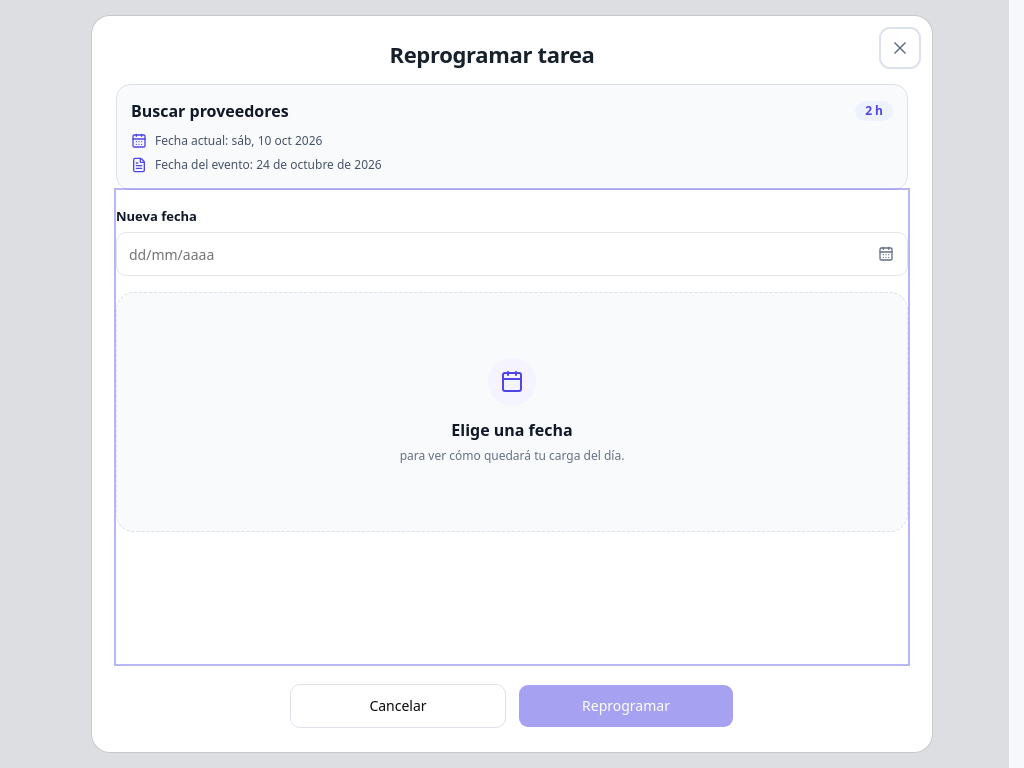
Scenario: RescheduleTaskDialog › usa hoy en Bogotá como mínimo y bloquea fechas pasadas aunque se ingresen manualmente
Check: the text "Elige una fecha" is shown, box x1=451 y1=418 x2=573 y2=442
Check: the text "Fecha del evento: 24 de octubre de 2026" is shown, box x1=155 y1=157 x2=382 y2=173
Type "2026-10-06" into the field labelled "Nueva fecha" at (512, 254), box x1=116 y1=232 x2=908 y2=276
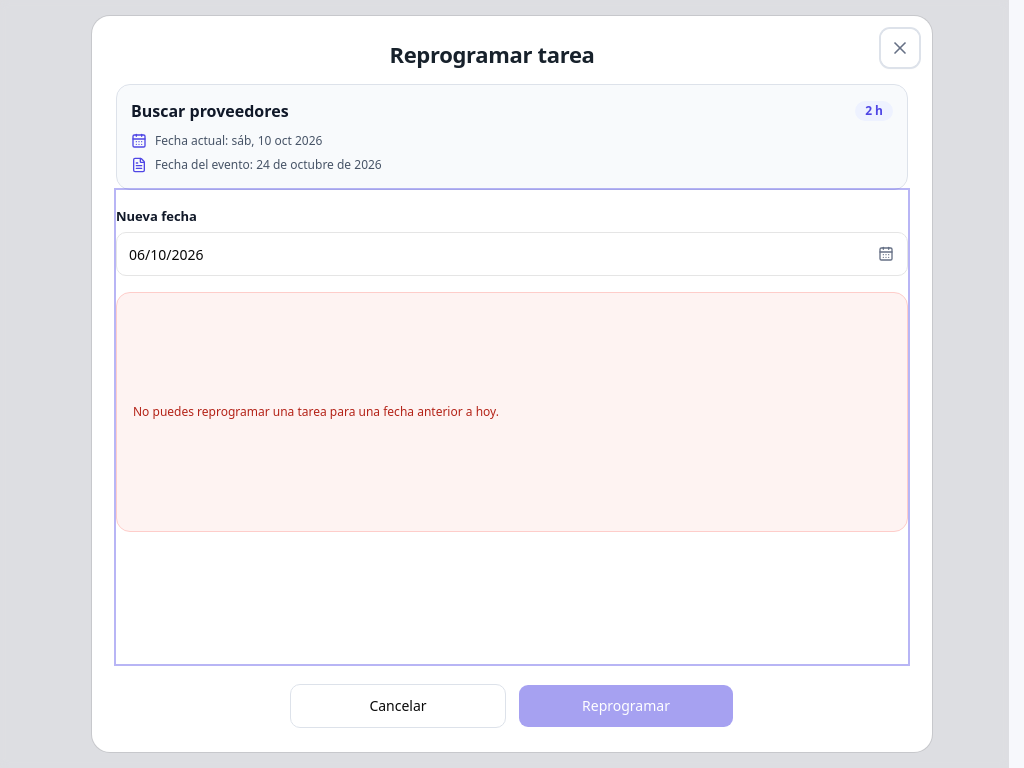
Check: the button "Reprogramar" is disabled, box x1=518 y1=684 x2=734 y2=728
Check: the text "No puedes reprogramar una tarea para una fecha anterior a hoy." is shown, box x1=116 y1=292 x2=908 y2=532
Replace the text in the field labelled "Nueva fecha" with "2026-10-07" at (512, 254), box x1=116 y1=232 x2=908 y2=276
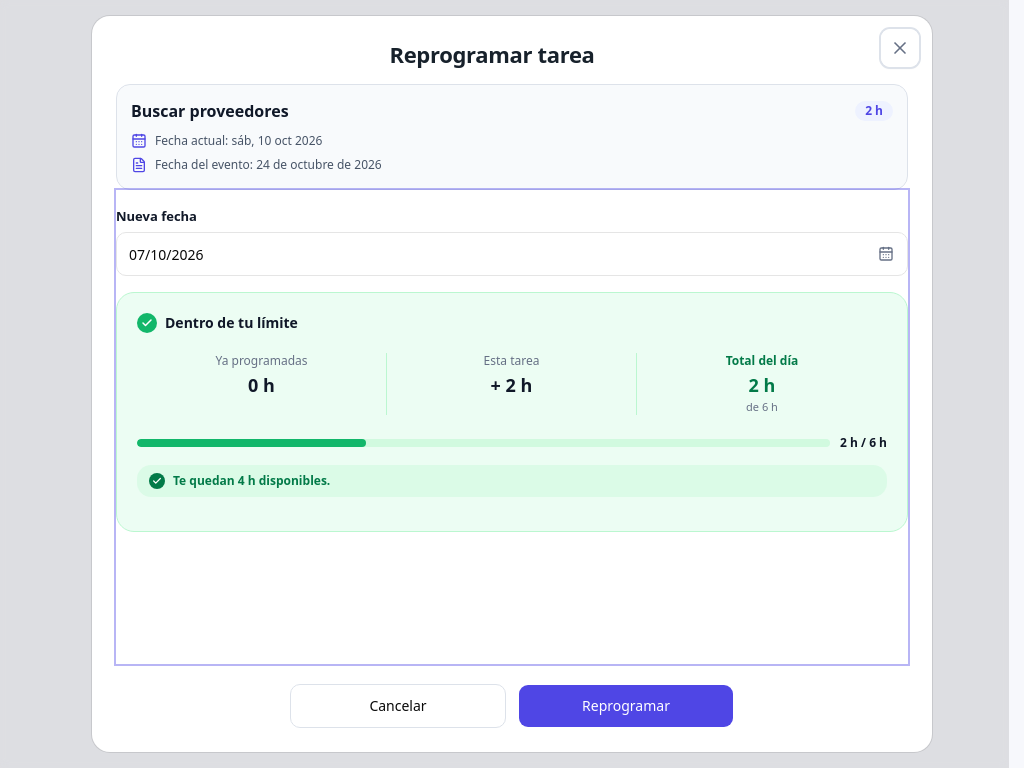
Check: the button "Reprogramar" is enabled, box x1=518 y1=684 x2=734 y2=728
